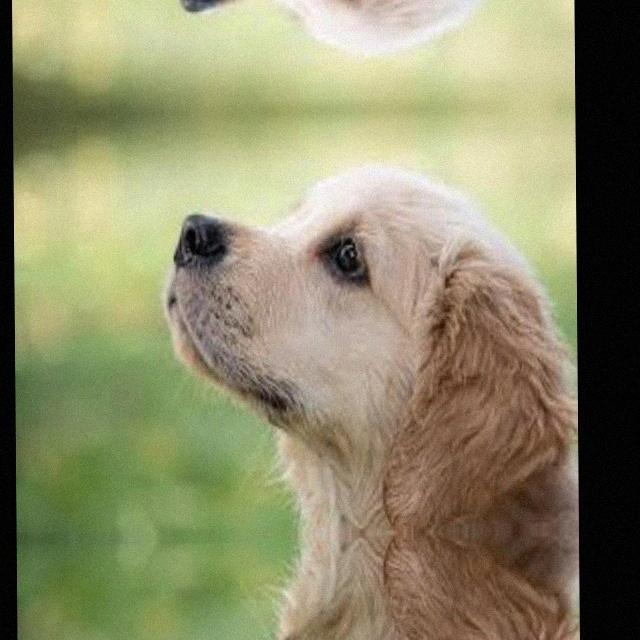dog: (156, 130, 579, 536), (159, 528, 580, 640), (154, 0, 575, 88)
